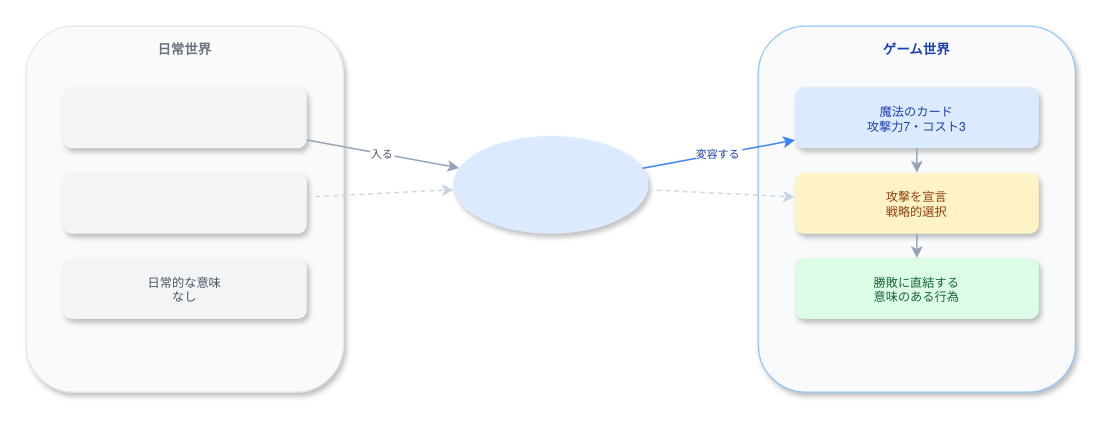
Some shapes in this 1104 by 422 pixel diagram are drawn without their labels. The centre of each missing label's shape, as x and y in pixels:
"カードを出す (物理的動作)" belongs at [185,204].
"マジックサークル (境界)" belongs at [551,186].
"紙とプラスチック (物質としてのカード)" belongs at [185,119].
